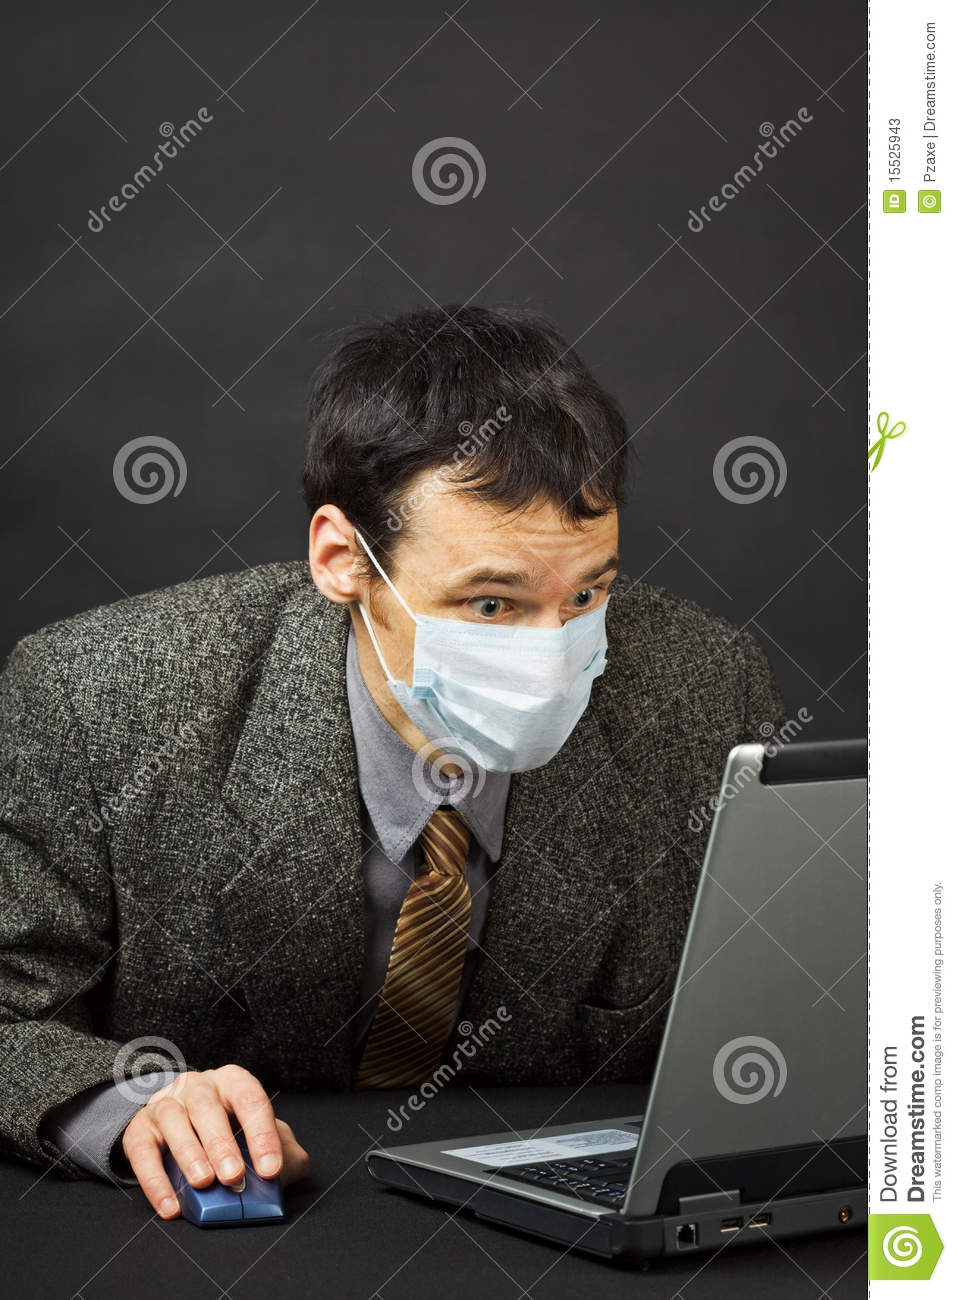mask: (393, 611, 607, 779)
